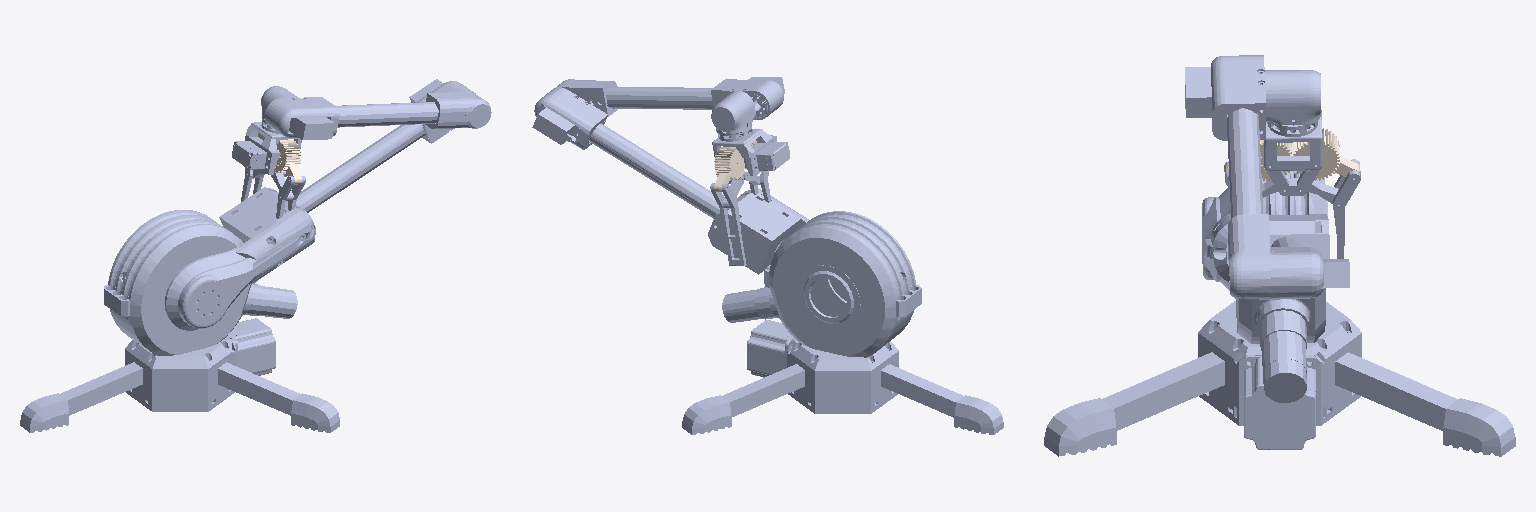
robot.urdf — urdf y gripper 2:
<?xml version="1.0" encoding="utf-8"?>
<!-- This URDF was automatically created by SolidWorks to URDF Exporter! Originally created by Stephen Brawner (brawner@gmail.com) 
     Commit Version: 1.6.0-4-g7f85cfe  Build Version: 1.6.7995.38578
     For more information, please see http://wiki.ros.org/sw_urdf_exporter -->
<robot
  name="urdf y gripper 2">
  <link
    name="base_link">
    <inertial>
      <origin
        xyz="0.0620154234110682 0.0287828530200332 0.0194399840557853"
        rpy="0 0 0" />
      <mass
        value="0.814654269422782" />
      <inertia
        ixx="0.00321225759807019"
        ixy="-5.94963872437992E-05"
        ixz="-4.09310030216226E-06"
        iyy="0.00681091711547534"
        iyz="1.70805052077515E-07"
        izz="0.00410985447956931" />
    </inertial>
    <visual>
      <origin
        xyz="0 0 0"
        rpy="0 0 0" />
      <geometry>
        <mesh
          filename="package://urdf y gripper 2/meshes/base_link.STL" />
      </geometry>
      <material
        name="">
        <color
          rgba="0.792156862745098 0.819607843137255 0.933333333333333 1" />
      </material>
    </visual>
    <collision>
      <origin
        xyz="0 0 0"
        rpy="0 0 0" />
      <geometry>
        <mesh
          filename="package://urdf y gripper 2/meshes/base_link.STL" />
      </geometry>
    </collision>
  </link>
  <link
    name="1">
    <inertial>
      <origin
        xyz="0.0194962567255034 0.0112262534519014 0.078113516182697"
        rpy="0 0 0" />
      <mass
        value="0.355121581213206" />
      <inertia
        ixx="0.00125603542570872"
        ixy="-0.000555249047729999"
        ixz="0.000259680747218291"
        iyy="0.00189659685842054"
        iyz="0.00015044977523268"
        izz="0.00165493757001617" />
    </inertial>
    <visual>
      <origin
        xyz="0 0 0"
        rpy="0 0 0" />
      <geometry>
        <mesh
          filename="package://urdf y gripper 2/meshes/1.STL" />
      </geometry>
      <material
        name="">
        <color
          rgba="0.792156862745098 0.819607843137255 0.933333333333333 1" />
      </material>
    </visual>
    <collision>
      <origin
        xyz="0 0 0"
        rpy="0 0 0" />
      <geometry>
        <mesh
          filename="package://urdf y gripper 2/meshes/1.STL" />
      </geometry>
    </collision>
  </link>
  <joint
    name="1"
    type="continuous">
    <origin
      xyz="0.0454347510074524 -0.0194924164116458 0.0427918681373972"
      rpy="0 0 -0.49557" />
    <parent
      link="base_link" />
    <child
      link="1" />
    <axis
      xyz="0 0 1" />
  </joint>
  <link
    name="2">
    <inertial>
      <origin
        xyz="0.0321790284208932 0.0387517372140779 0.129799464054696"
        rpy="0 0 0" />
      <mass
        value="0.514099608790563" />
      <inertia
        ixx="0.00180786464083964"
        ixy="7.74792552574944E-05"
        ixz="-0.000644830625298174"
        iyy="0.00201839346894238"
        iyz="3.95355749513025E-05"
        izz="0.000642833598924862" />
    </inertial>
    <visual>
      <origin
        xyz="0 0 0"
        rpy="0 0 0" />
      <geometry>
        <mesh
          filename="package://urdf y gripper 2/meshes/2.STL" />
      </geometry>
      <material
        name="">
        <color
          rgba="0.792156862745098 0.819607843137255 0.933333333333333 1" />
      </material>
    </visual>
    <collision>
      <origin
        xyz="0 0 0"
        rpy="0 0 0" />
      <geometry>
        <mesh
          filename="package://urdf y gripper 2/meshes/2.STL" />
      </geometry>
    </collision>
  </link>
  <joint
    name="2"
    type="continuous">
    <origin
      xyz="0 0 0.0930581318626029"
      rpy="1.5421939 -1.0470204 2.1191647" />
    <parent
      link="1" />
    <child
      link="2" />
    <axis
      xyz="0.500000000000001 -0.866025403784438 0" />
  </joint>
  <link
    name="3">
    <inertial>
      <origin
        xyz="0.160285451537985 0.0390539194758058 -0.0327831842575367"
        rpy="0 0 0" />
      <mass
        value="0.148274265947056" />
      <inertia
        ixx="5.33432313935929E-05"
        ixy="-3.05053739174086E-06"
        ixz="3.81633178561702E-05"
        iyy="0.00022552110386809"
        iyz="5.28312759383035E-07"
        izz="0.000231079216630846" />
    </inertial>
    <visual>
      <origin
        xyz="0 0 0"
        rpy="0 0 0" />
      <geometry>
        <mesh
          filename="package://urdf y gripper 2/meshes/3.STL" />
      </geometry>
      <material
        name="">
        <color
          rgba="0.792156862745098 0.819607843137255 0.933333333333333 1" />
      </material>
    </visual>
    <collision>
      <origin
        xyz="0 0 0"
        rpy="0 0 0" />
      <geometry>
        <mesh
          filename="package://urdf y gripper 2/meshes/3.STL" />
      </geometry>
    </collision>
  </link>
  <joint
    name="3"
    type="continuous">
    <origin
      xyz="0.118562532535808 0.0684521100753529 0.37687220459222"
      rpy="0 1.150442 0.523599" />
    <parent
      link="2" />
    <child
      link="3" />
    <axis
      xyz="0 -1 0" />
  </joint>
  <link
    name="4">
    <inertial>
      <origin
        xyz="-0.00934416150525474 -0.000677982540279336 -0.0368117366199101"
        rpy="0 0 0" />
      <mass
        value="0.0891556215531032" />
      <inertia
        ixx="2.88078312181138E-05"
        ixy="-1.19720534200001E-06"
        ixz="1.29339806412181E-06"
        iyy="2.97059325514424E-05"
        iyz="4.77175311125223E-07"
        izz="3.32395106205033E-05" />
    </inertial>
    <visual>
      <origin
        xyz="0 0 0"
        rpy="0 0 0" />
      <geometry>
        <mesh
          filename="package://urdf y gripper 2/meshes/4.STL" />
      </geometry>
      <material
        name="">
        <color
          rgba="0.792156862745098 0.819607843137255 0.933333333333333 1" />
      </material>
    </visual>
    <collision>
      <origin
        xyz="0 0 0"
        rpy="0 0 0" />
      <geometry>
        <mesh
          filename="package://urdf y gripper 2/meshes/4.STL" />
      </geometry>
    </collision>
  </link>
  <joint
    name="4"
    type="continuous">
    <origin
      xyz="0.23364964353366 0 -0.04785492740141"
      rpy="0 -0.359292 0" />
    <parent
      link="3" />
    <child
      link="4" />
    <axis
      xyz="0 -1 0" />
  </joint>
  <link
    name="left_link">
    <inertial>
      <origin
        xyz="-0.000469947739044435 0.0174936888369082 0.00300000000000089"
        rpy="0 0 0" />
      <mass
        value="0.00336762222486258" />
      <inertia
        ixx="6.2747061339946E-07"
        ixy="1.55947433705602E-08"
        ixz="-8.41656273272706E-23"
        iyy="4.73790672083762E-08"
        iyz="1.31305874954843E-21"
        izz="6.18722643526794E-07" />
    </inertial>
    <visual>
      <origin
        xyz="0 0 0"
        rpy="0 0 0" />
      <geometry>
        <mesh
          filename="package://urdf y gripper 2/meshes/left_link.STL" />
      </geometry>
      <material
        name="">
        <color
          rgba="0.792156862745098 0.819607843137255 0.933333333333333 1" />
      </material>
    </visual>
    <collision>
      <origin
        xyz="0 0 0"
        rpy="0 0 0" />
      <geometry>
        <mesh
          filename="package://urdf y gripper 2/meshes/left_link.STL" />
      </geometry>
    </collision>
  </link>
  <joint
    name="left_joint"
    type="continuous">
    <origin
      xyz="-0.0446374847636057 0 -0.0675895135948699"
      rpy="-0.636182262047826 -0.816033703582543 0.792345504410718" />
    <parent
      link="4" />
    <child
      link="left_link" />
    <axis
      xyz="0 0 1" />
  </joint>
  <link
    name="right_link">
    <inertial>
      <origin
        xyz="0 -0.0175 -0.00300000000000045"
        rpy="0 0 0" />
      <mass
        value="0.00336762222486258" />
      <inertia
        ixx="6.27889548162521E-07"
        ixy="-2.87858853168454E-22"
        ixz="1.94387443949962E-23"
        iyy="4.6960132445314E-08"
        iyz="3.36838931424103E-21"
        izz="6.18722643526793E-07" />
    </inertial>
    <visual>
      <origin
        xyz="0 0 0"
        rpy="0 0 0" />
      <geometry>
        <mesh
          filename="package://urdf y gripper 2/meshes/right_link.STL" />
      </geometry>
      <material
        name="">
        <color
          rgba="0.792156862745098 0.819607843137255 0.933333333333333 1" />
      </material>
    </visual>
    <collision>
      <origin
        xyz="0 0 0"
        rpy="0 0 0" />
      <geometry>
        <mesh
          filename="package://urdf y gripper 2/meshes/right_link.STL" />
      </geometry>
    </collision>
  </link>
  <joint
    name="right_joint"
    type="continuous">
    <origin
      xyz="-0.0446374847636117 -0.01199999999993 -0.0675895135948783"
      rpy="2.48504023556058 0.801364458791681 2.32108947717299" />
    <parent
      link="4" />
    <child
      link="right_link" />
    <axis
      xyz="0 0 1" />
  </joint>
  <link
    name="left_gear">
    <inertial>
      <origin
        xyz="0.00332043434216367 5.55111512312578E-17 -0.00283964882726565"
        rpy="0 0 0" />
      <mass
        value="0.0208170455983243" />
      <inertia
        ixx="4.74146880578325E-06"
        ixy="-7.1848908006356E-21"
        ixz="-1.89418670297648E-08"
        iyy="3.75851791717855E-06"
        iyz="-2.32934060494933E-21"
        izz="2.19540725542139E-06" />
    </inertial>
    <visual>
      <origin
        xyz="0 0 0"
        rpy="0 0 0" />
      <geometry>
        <mesh
          filename="package://urdf y gripper 2/meshes/left_gear.STL" />
      </geometry>
      <material
        name="">
        <color
          rgba="1 0.949019607843137 0.909803921568627 1" />
      </material>
    </visual>
    <collision>
      <origin
        xyz="0 0 0"
        rpy="0 0 0" />
      <geometry>
        <mesh
          filename="package://urdf y gripper 2/meshes/left_gear.STL" />
      </geometry>
    </collision>
  </link>
  <joint
    name="left_gear"
    type="continuous">
    <origin
      xyz="-0.030860842200278 0.0120000000000486 -0.0467290960611094"
      rpy="-1.03436663934795 -0.583665698554612 3.14159265358977" />
    <parent
      link="4" />
    <child
      link="left_gear" />
    <axis
      xyz="1 0 0" />
  </joint>
  <link
    name="left_finger">
    <inertial>
      <origin
        xyz="0.00767435115108214 0.0771367226814144 0.0150000017340822"
        rpy="0 0 0" />
      <mass
        value="0.00826543782946823" />
      <inertia
        ixx="8.37291786945403E-06"
        ixy="-5.42084443454308E-07"
        ixz="-5.04273014281664E-15"
        iyy="6.05144732599242E-07"
        iyz="-2.60044833018136E-13"
        izz="8.06912919160269E-06" />
    </inertial>
    <visual>
      <origin
        xyz="0 0 0"
        rpy="0 0 0" />
      <geometry>
        <mesh
          filename="package://urdf y gripper 2/meshes/left_finger.STL" />
      </geometry>
      <material
        name="">
        <color
          rgba="0.792156862745098 0.819607843137255 0.933333333333333 1" />
      </material>
    </visual>
    <collision>
      <origin
        xyz="0 0 0"
        rpy="0 0 0" />
      <geometry>
        <mesh
          filename="package://urdf y gripper 2/meshes/left_finger.STL" />
      </geometry>
    </collision>
  </link>
  <joint
    name="left_finger_joint"
    type="fixed">
    <origin
      xyz="0.0180000000000023 -0.0295926571259712 -0.0163111090691601"
      rpy="-1.57079632679489 -1.03436663934697 1.57079632679489" />
    <parent
      link="left_gear" />
    <child
      link="left_finger" />
    <axis
      xyz="0 0 0" />
  </joint>
  <link
    name="right_gear">
    <inertial>
      <origin
        xyz="-0.00299999999999589 0.000235018102434981 -0.00268626920292762"
        rpy="0 0 0" />
      <mass
        value="0.0220238578526574" />
      <inertia
        ixx="4.81786570325033E-06"
        ixy="1.42440501481631E-21"
        ixz="3.75746793252213E-22"
        iyy="3.86576031906348E-06"
        iyz="1.3674437762972E-07"
        izz="2.31472851349093E-06" />
    </inertial>
    <visual>
      <origin
        xyz="0 0 0"
        rpy="0 0 0" />
      <geometry>
        <mesh
          filename="package://urdf y gripper 2/meshes/right_gear.STL" />
      </geometry>
      <material
        name="">
        <color
          rgba="1 0.949019607843137 0.909803921568627 1" />
      </material>
    </visual>
    <collision>
      <origin
        xyz="0 0 0"
        rpy="0 0 0" />
      <geometry>
        <mesh
          filename="package://urdf y gripper 2/meshes/right_gear.STL" />
      </geometry>
    </collision>
  </link>
  <joint
    name="right_gear_joint"
    type="continuous">
    <origin
      xyz="-0.0308608422002956 -0.0239999999999514 -0.0467290960611348"
      rpy="-1.1241367549404 0.583665698554614 0" />
    <parent
      link="4" />
    <child
      link="right_gear" />
    <axis
      xyz="1 0 0" />
  </joint>
  <link
    name="right_finger">
    <inertial>
      <origin
        xyz="0.00861288758144949 0.0421496228519228 1.90673787869855E-09"
        rpy="0 0 0" />
      <mass
        value="0.00826543786698466" />
      <inertia
        ixx="8.37295282843617E-06"
        ixy="-5.41833954768233E-07"
        ixz="7.35144046165134E-14"
        iyy="6.05109773246728E-07"
        iyz="-6.04862742966393E-14"
        izz="8.06912919102798E-06" />
    </inertial>
    <visual>
      <origin
        xyz="0 0 0"
        rpy="0 0 0" />
      <geometry>
        <mesh
          filename="package://urdf y gripper 2/meshes/right_finger.STL" />
      </geometry>
      <material
        name="">
        <color
          rgba="0.792156862745098 0.819607843137255 0.933333333333333 1" />
      </material>
    </visual>
    <collision>
      <origin
        xyz="0 0 0"
        rpy="0 0 0" />
      <geometry>
        <mesh
          filename="package://urdf y gripper 2/meshes/right_finger.STL" />
      </geometry>
    </collision>
  </link>
  <joint
    name="right_finger_joint"
    type="fixed">
    <origin
      xyz="-0.00300000000000089 0.00305045099616832 -0.0348668144332111"
      rpy="-1.57079580129379 -1.12416900857782 1.5707957933053" />
    <parent
      link="right_gear" />
    <child
      link="right_finger" />
    <axis
      xyz="0 0 0" />
  </joint>
</robot>

--- Facts derived from the render (not from the file) ---
3 views of the same robot in one strip: view 1: azimuth 30°, elevation 25°; view 2: azimuth 150°, elevation 25°; view 3: azimuth 270°, elevation 25° (orthographic).
Model urdf y gripper 2 with 11 links and 10 joints (8 continuous, 2 fixed), rooted at base_link, posed all joints at 0.
Visible links, largest first — view 1: base_link, 2, 1, 3, 4, left_gear, left_finger; view 2: 1, base_link, 2, 3, 4, right_finger, right_gear; view 3: base_link, 3, 2, 1, 4, right_gear, right_finger.
Link boxes in pixels (box(x1,y1,x2,y2)): base_link: box(20, 318, 339, 432); 2: box(165, 79, 475, 330); 1: box(104, 210, 297, 355); 3: box(264, 92, 491, 139); 4: box(232, 86, 301, 176); left_gear: box(274, 139, 301, 184); left_finger: box(276, 176, 305, 218); 1: box(722, 211, 921, 357); base_link: box(682, 320, 1003, 434); 2: box(532, 87, 808, 274); 3: box(554, 77, 784, 119); 4: box(711, 91, 789, 183); right_finger: box(710, 183, 746, 265); right_gear: box(714, 147, 744, 191); base_link: box(1044, 301, 1515, 456); 3: box(1185, 55, 1270, 298); 2: box(1202, 188, 1349, 298); 1: box(1235, 171, 1327, 402); 4: box(1264, 70, 1322, 195); right_gear: box(1293, 128, 1360, 180); right_finger: box(1332, 159, 1360, 258).
Bounding box of the posed robot: 0.5999 × 0.3678 × 0.3485 m (x, y, z).
Meshes: 11 distinct files referenced, 11 mesh visuals loaded (11 binary STL).
